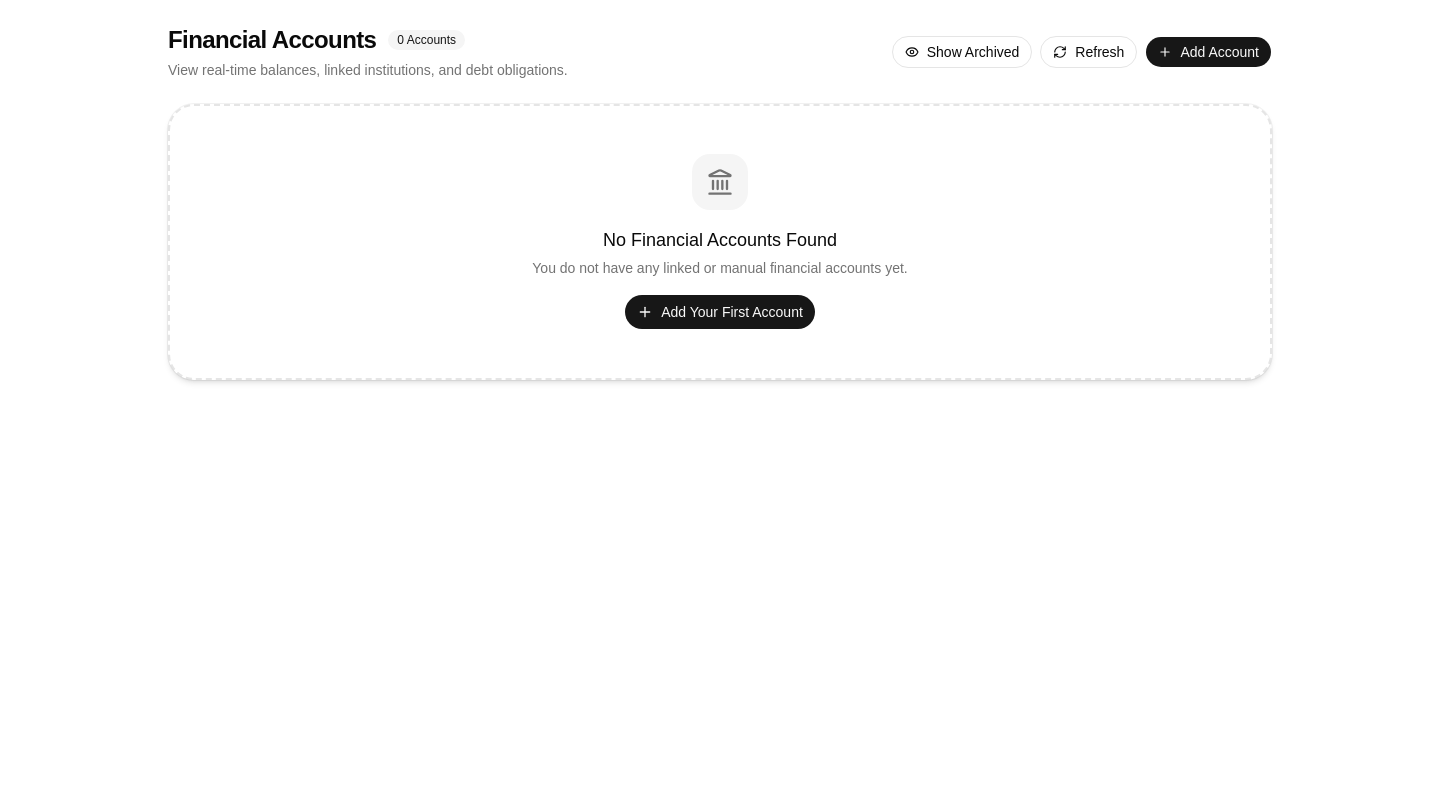
Test: AccountsPage › 6. validates required fields in account creation form
The width and height of the screenshot is (1440, 810).
Click the button with test id "empty-add-account-btn" at (720, 312), box [624,294,816,330]
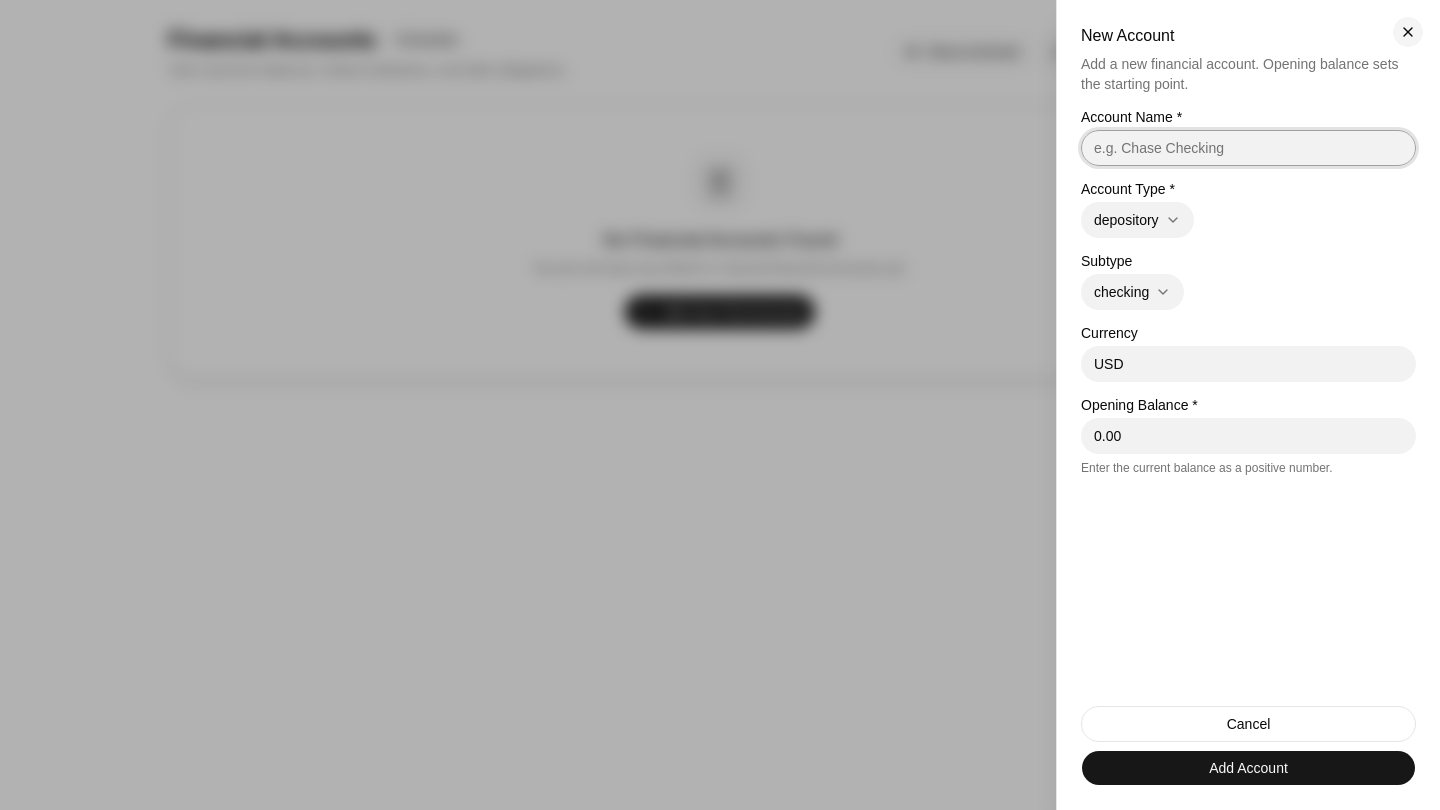
Expected: the dialog with test id "account-form-sheet" is shown, [1056,0,1439,809]
Note: Clear balance too
Clear the field with test id "account-balance-input" at (1248, 436), box [1081,418,1416,454]
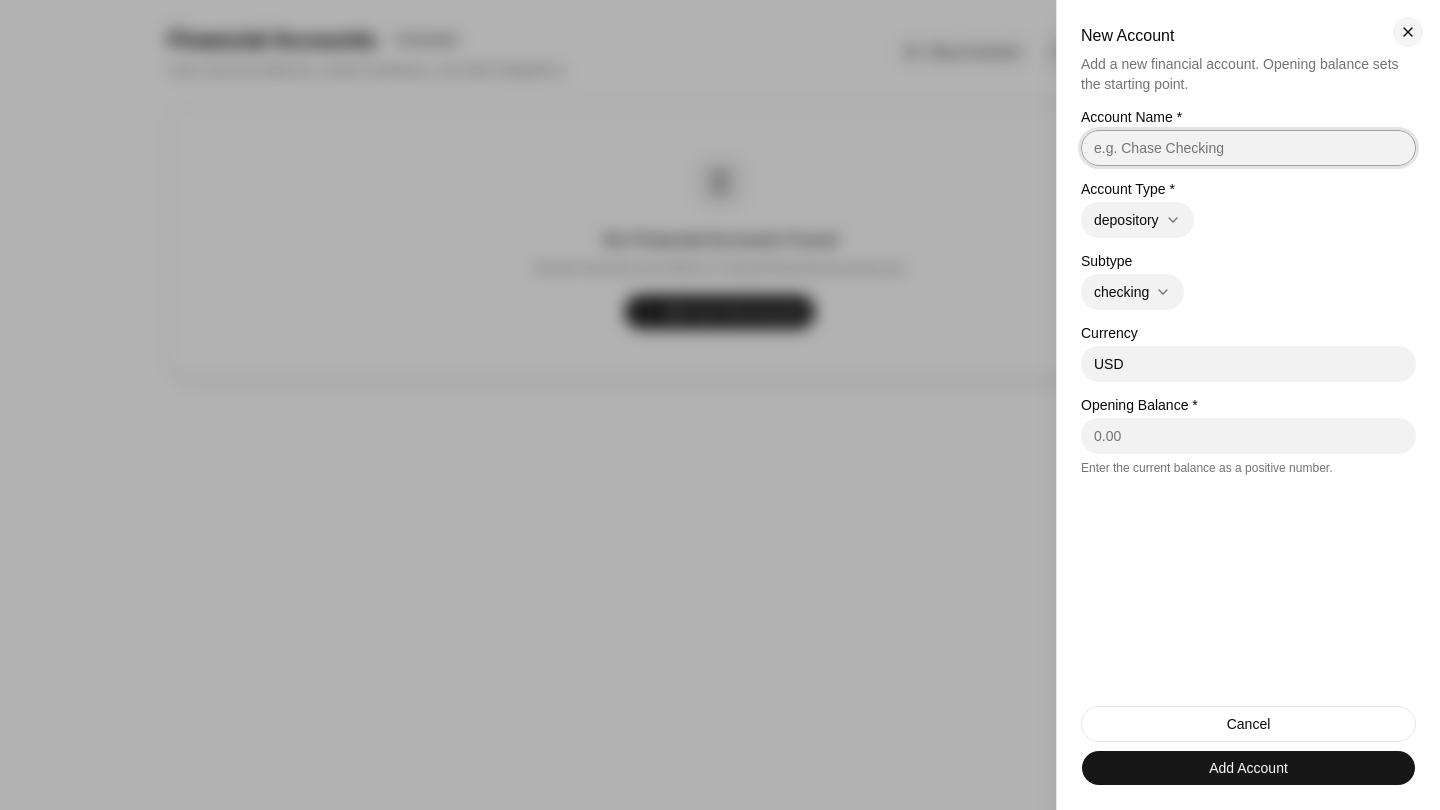
Click the button with test id "account-form-submit" at (1248, 768), box [1081,750,1416,786]
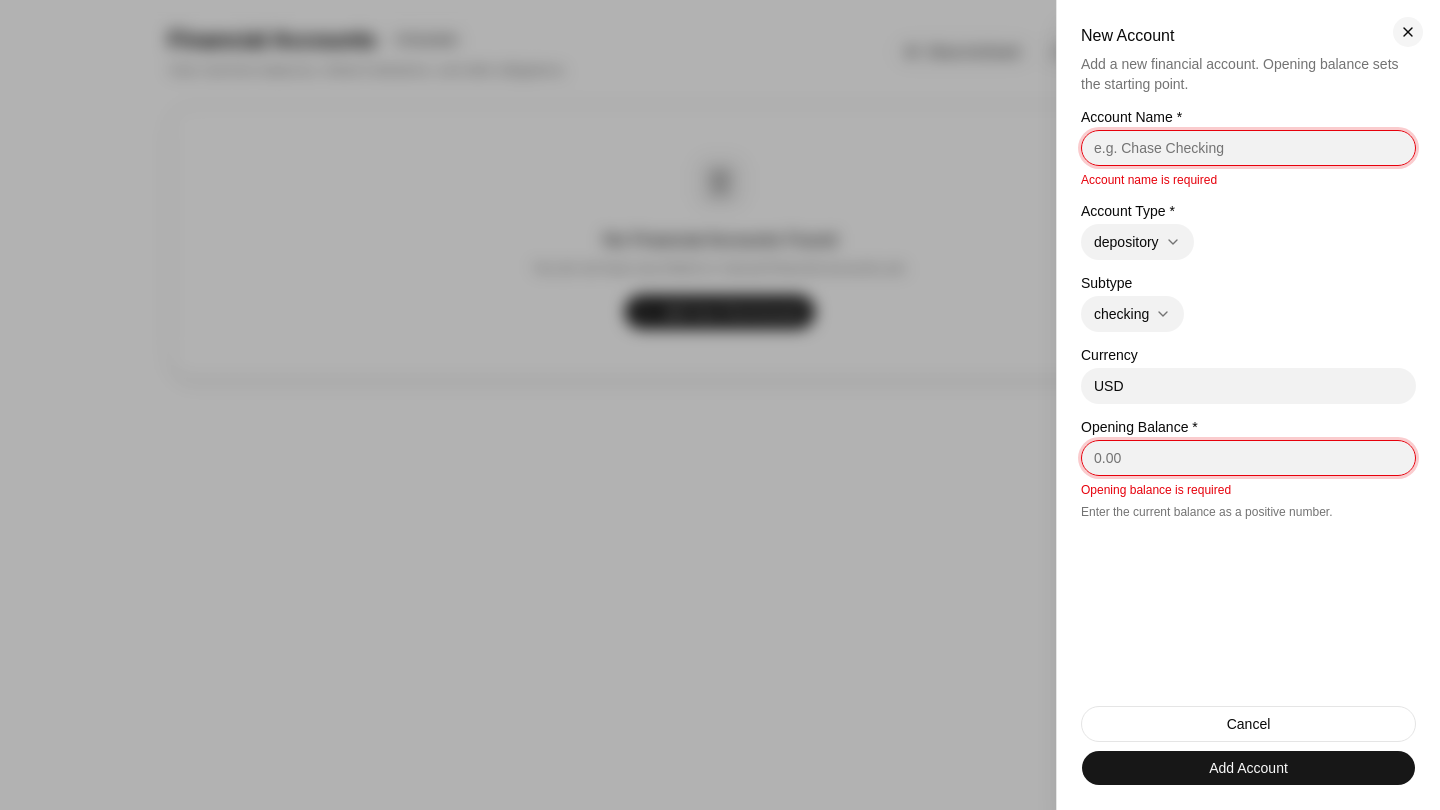
Expected: the text "Account name is required" is shown, [1081,173,1217,187]
Expected: the text "Opening balance is required" is shown, [1081,483,1231,497]
